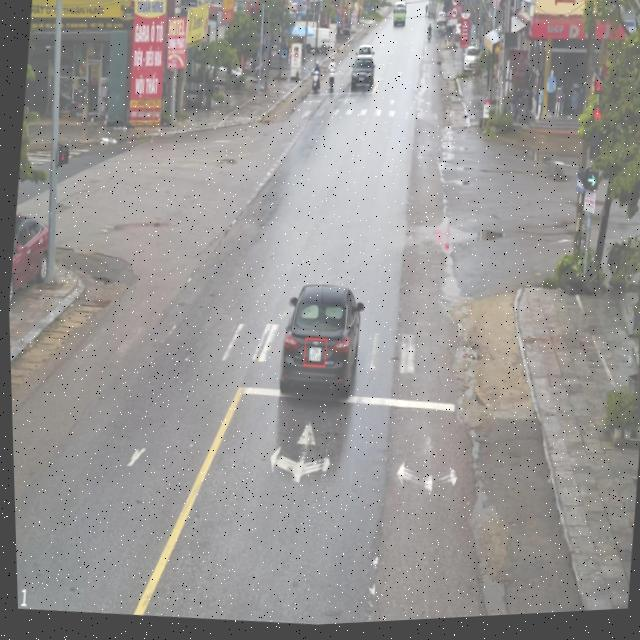Red: (582, 78, 609, 174)
